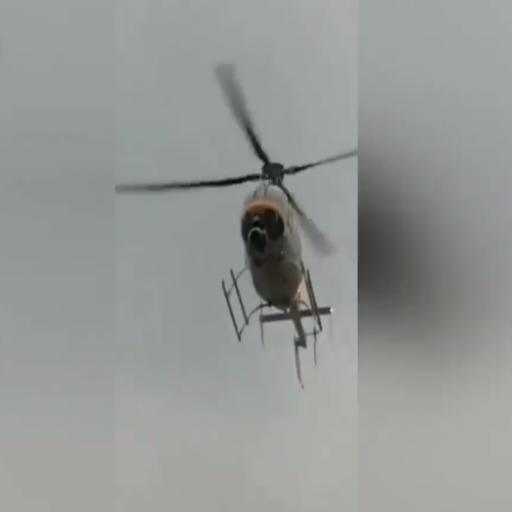helicopter: (117, 66, 360, 390)
